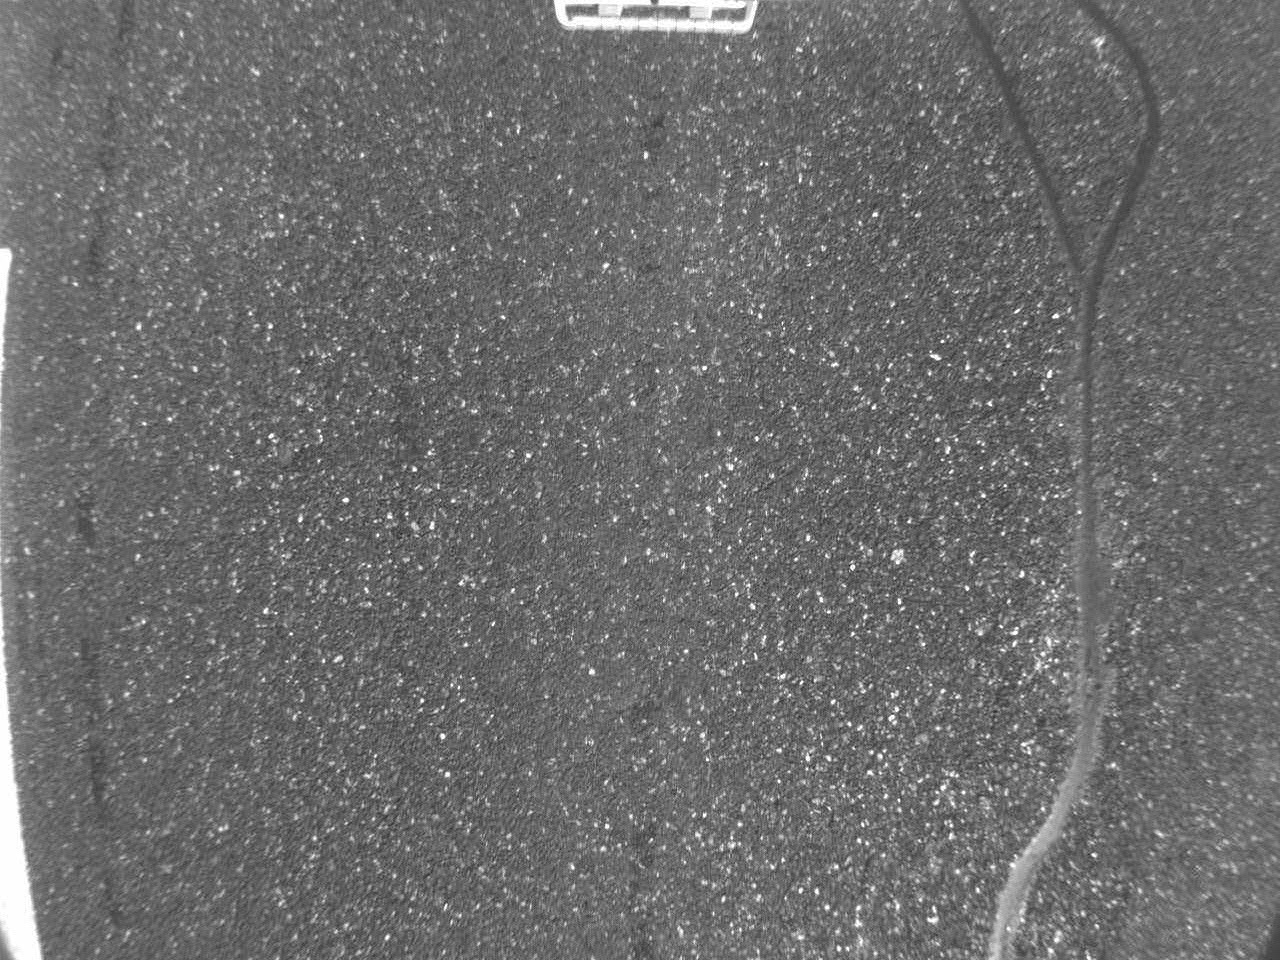sealed: (962, 3, 1119, 960)
